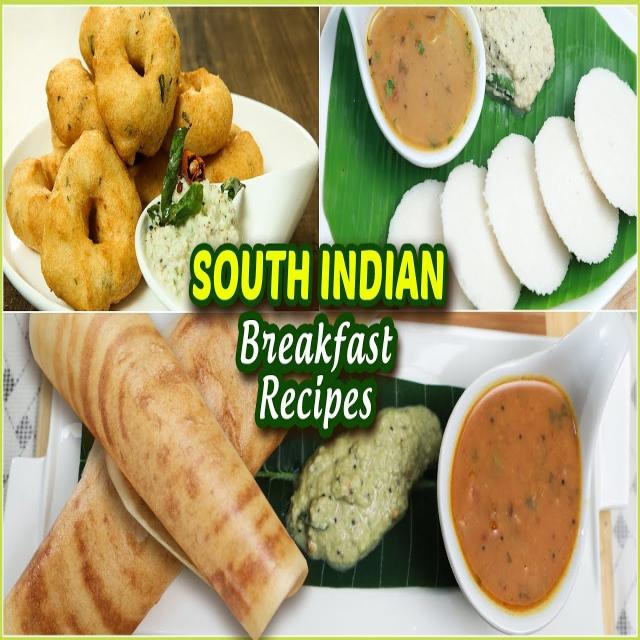DOSA: (31, 314, 306, 639), (4, 441, 184, 634), (170, 314, 286, 476), (110, 459, 176, 548)
IDLI: (484, 134, 570, 295), (534, 117, 618, 262), (441, 162, 520, 310), (575, 68, 636, 216)
MEDU VADA: (6, 130, 141, 309), (79, 8, 180, 164), (46, 60, 109, 148), (170, 68, 232, 156), (206, 125, 264, 182)
